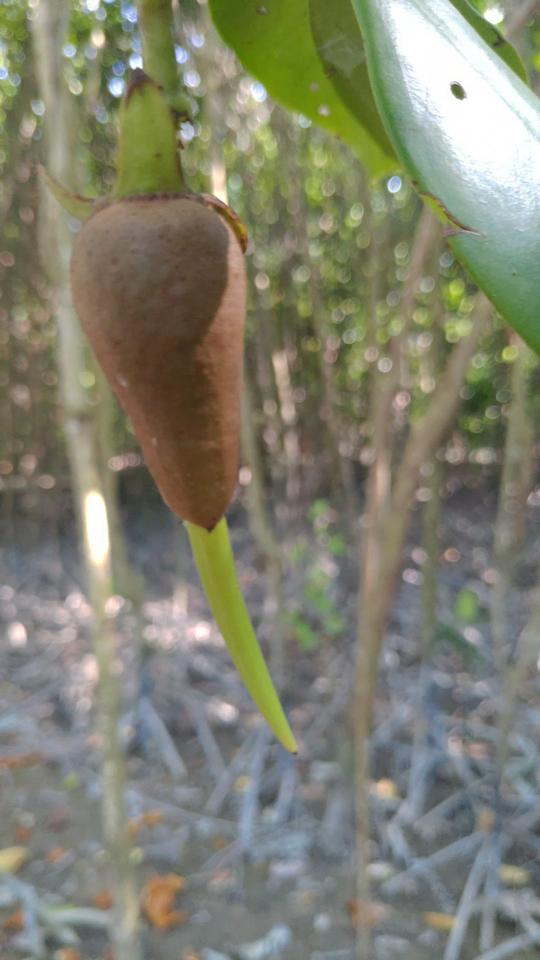mentah: (15, 63, 323, 766)
